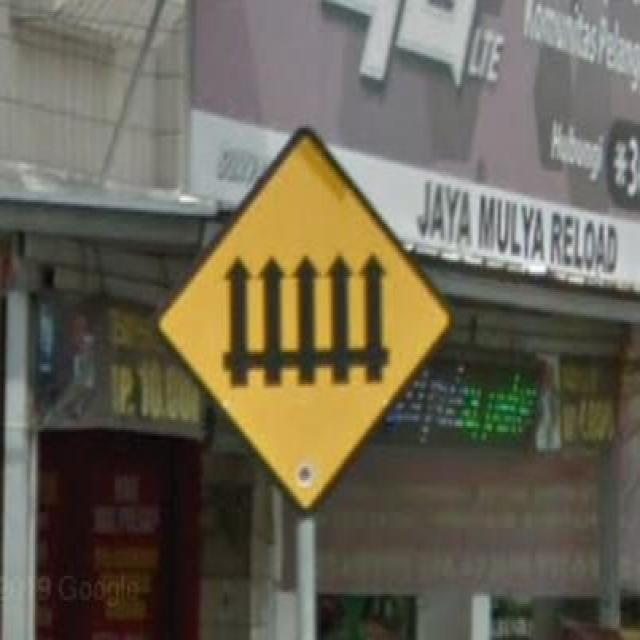traffic sign: (170, 142, 448, 500)
